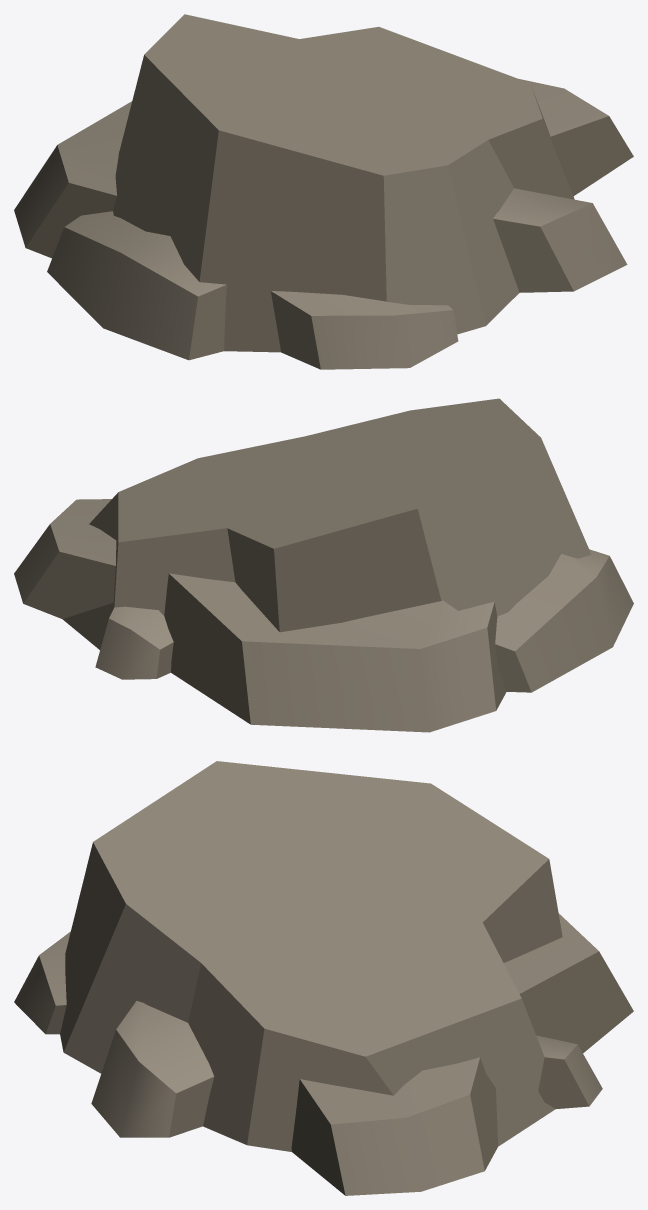
The model's file is caillou2.fbx.
3 renders of one model, top to bottom at view 1: azimuth 30°, elevation 25°; view 2: azimuth 150°, elevation 25°; view 3: azimuth 270°, elevation 25°, orthographic. The views are drawn at different scales.
Visible parts, largest first — view 1: cailoou2; view 2: cailoou2; view 3: cailoou2.
Boxes of the visible parts, x1,y1,x2,y2 form: cailoou2: (14, 14, 633, 369); cailoou2: (14, 398, 633, 732); cailoou2: (14, 761, 633, 1195).
Bounding box in the file's own units: 9.15 × 2.87 × 8.3.
